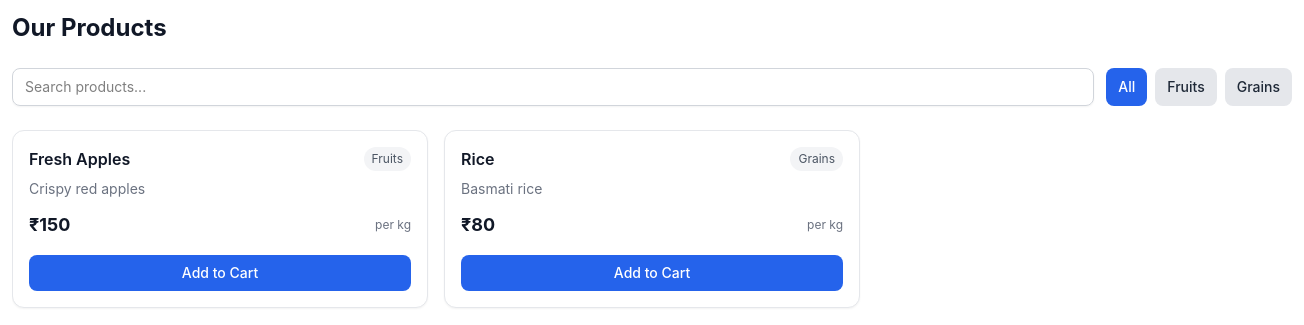
Test: ProductCatalog › filters products by search
Expected: the heading "Fresh Apples" is shown, [29, 147, 130, 171]
In the field with placeholder "Search products...": (553, 87) [12, 68, 1094, 106], type "rice"
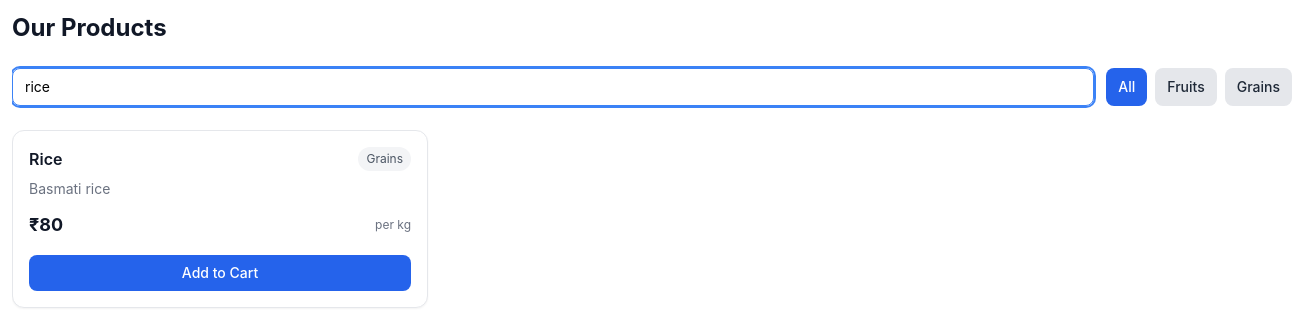
Expected: the heading "Rice" is shown, [29, 147, 62, 171]
Expected: the heading "Fresh Apples" is gone
